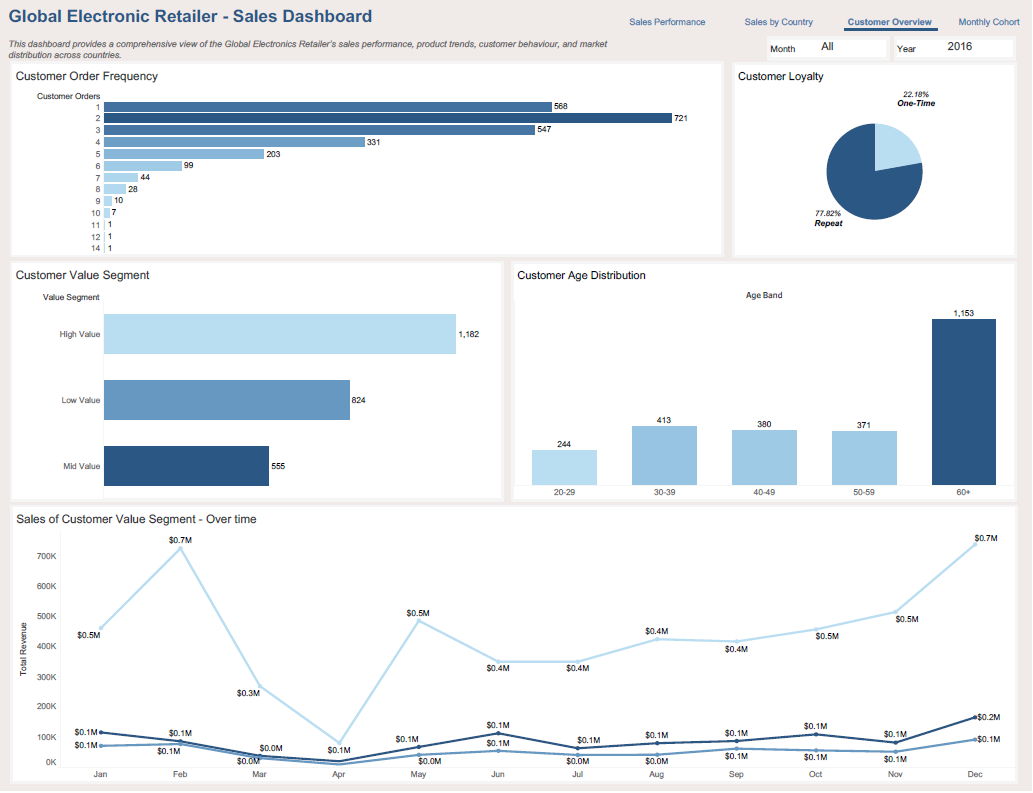

The page's visual inventory and layout, read from the dashboard file:
{"tool":"tableau","page":{"name":"Customers Overview","canvas":[1500,1150],"ordinal":0},"visuals":[{"type":"parameter","param":"[Parameters].[YEAR Parameter]","box":[1291,21,186,54]},{"type":"text","box":[15,26,692,47]},{"type":"worksheet","title":"Customer Order","mark":"Automatic","rows":["Calculation_2140054277193887748"],"cols":["CustomerKey"],"box":[15,90,1037,284]},{"type":"worksheet","title":"Customer Loyalty","mark":"Pie","box":[1066,91,413,284]},{"type":"worksheet","title":"Customer Value Segment","mark":"Automatic","rows":["Calculation_1338976494348345346"],"cols":["CustomerKey (Customer.csv)"],"box":[15,380,717,350]},{"type":"worksheet","title":"Customer Age Distribution","mark":"Automatic","rows":["CustomerKey (Customer.csv)"],"cols":["Age_Band"],"box":[745,381,734,349]},{"type":"worksheet","title":"Customer Value Segment - Over time","mark":"Automatic","rows":["Revenue"],"cols":["Order_Date_Formatted"],"box":[16,735,1464,405]}]}

Visuals, with their boxes in screenshot pixels (x1, y1, x2, y2), scaled from the page's 1500x1150 canvas onto the 1033x793 screenshot:
parameter: bbox=[889, 14, 1017, 52]
text: bbox=[10, 18, 487, 50]
"Customer Order" worksheet: bbox=[10, 62, 724, 258]
"Customer Loyalty" worksheet (Pie marks): bbox=[734, 63, 1019, 259]
"Customer Value Segment" worksheet: bbox=[10, 262, 504, 503]
"Customer Age Distribution" worksheet: bbox=[513, 263, 1019, 503]
"Customer Value Segment - Over time" worksheet: bbox=[11, 507, 1019, 786]
